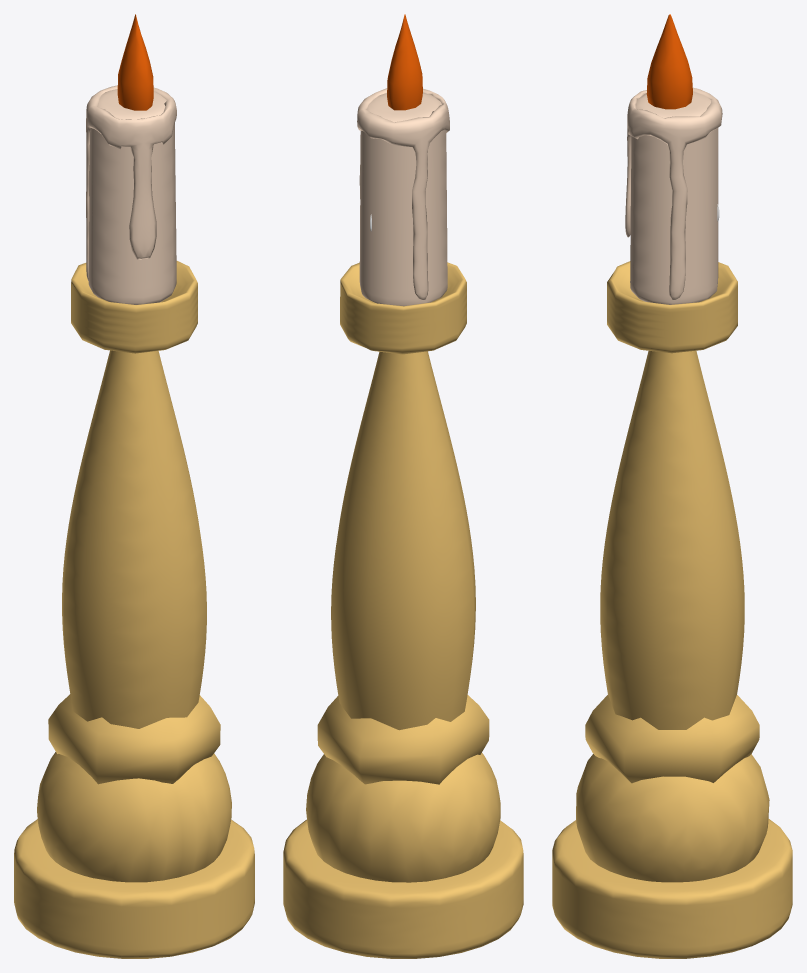
3 renders of one model, left to right at view 1: azimuth 30°, elevation 25°; view 2: azimuth 150°, elevation 25°; view 3: azimuth 270°, elevation 25°, orthographic.
Visible parts, largest first — view 1: Obj_Avatar_Shape (×3); view 2: Obj_Avatar_Shape (×3); view 3: Obj_Avatar_Shape (×3).
Part boxes in pixels (x1=…): Obj_Avatar_Shape (×3): x1=14, y1=14, x2=254, y2=958; Obj_Avatar_Shape (×3): x1=283, y1=14, x2=523, y2=958; Obj_Avatar_Shape (×3): x1=552, y1=14, x2=792, y2=958.
Size of the model in its own units: 603 by 2494 by 606.
